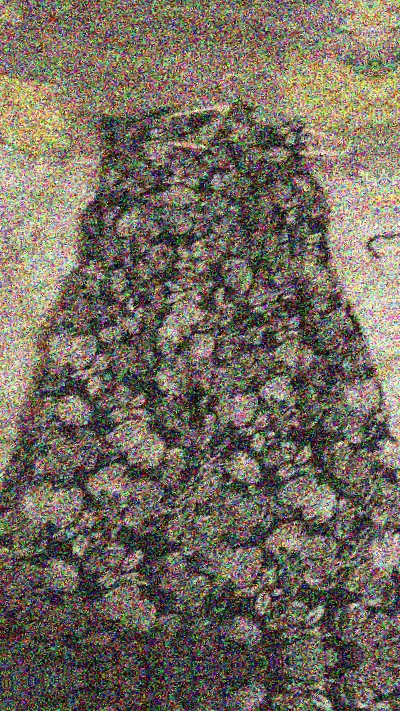Dress: (0, 74, 400, 678), (12, 657, 400, 711), (381, 41, 400, 645), (0, 690, 47, 711), (0, 107, 0, 711)
